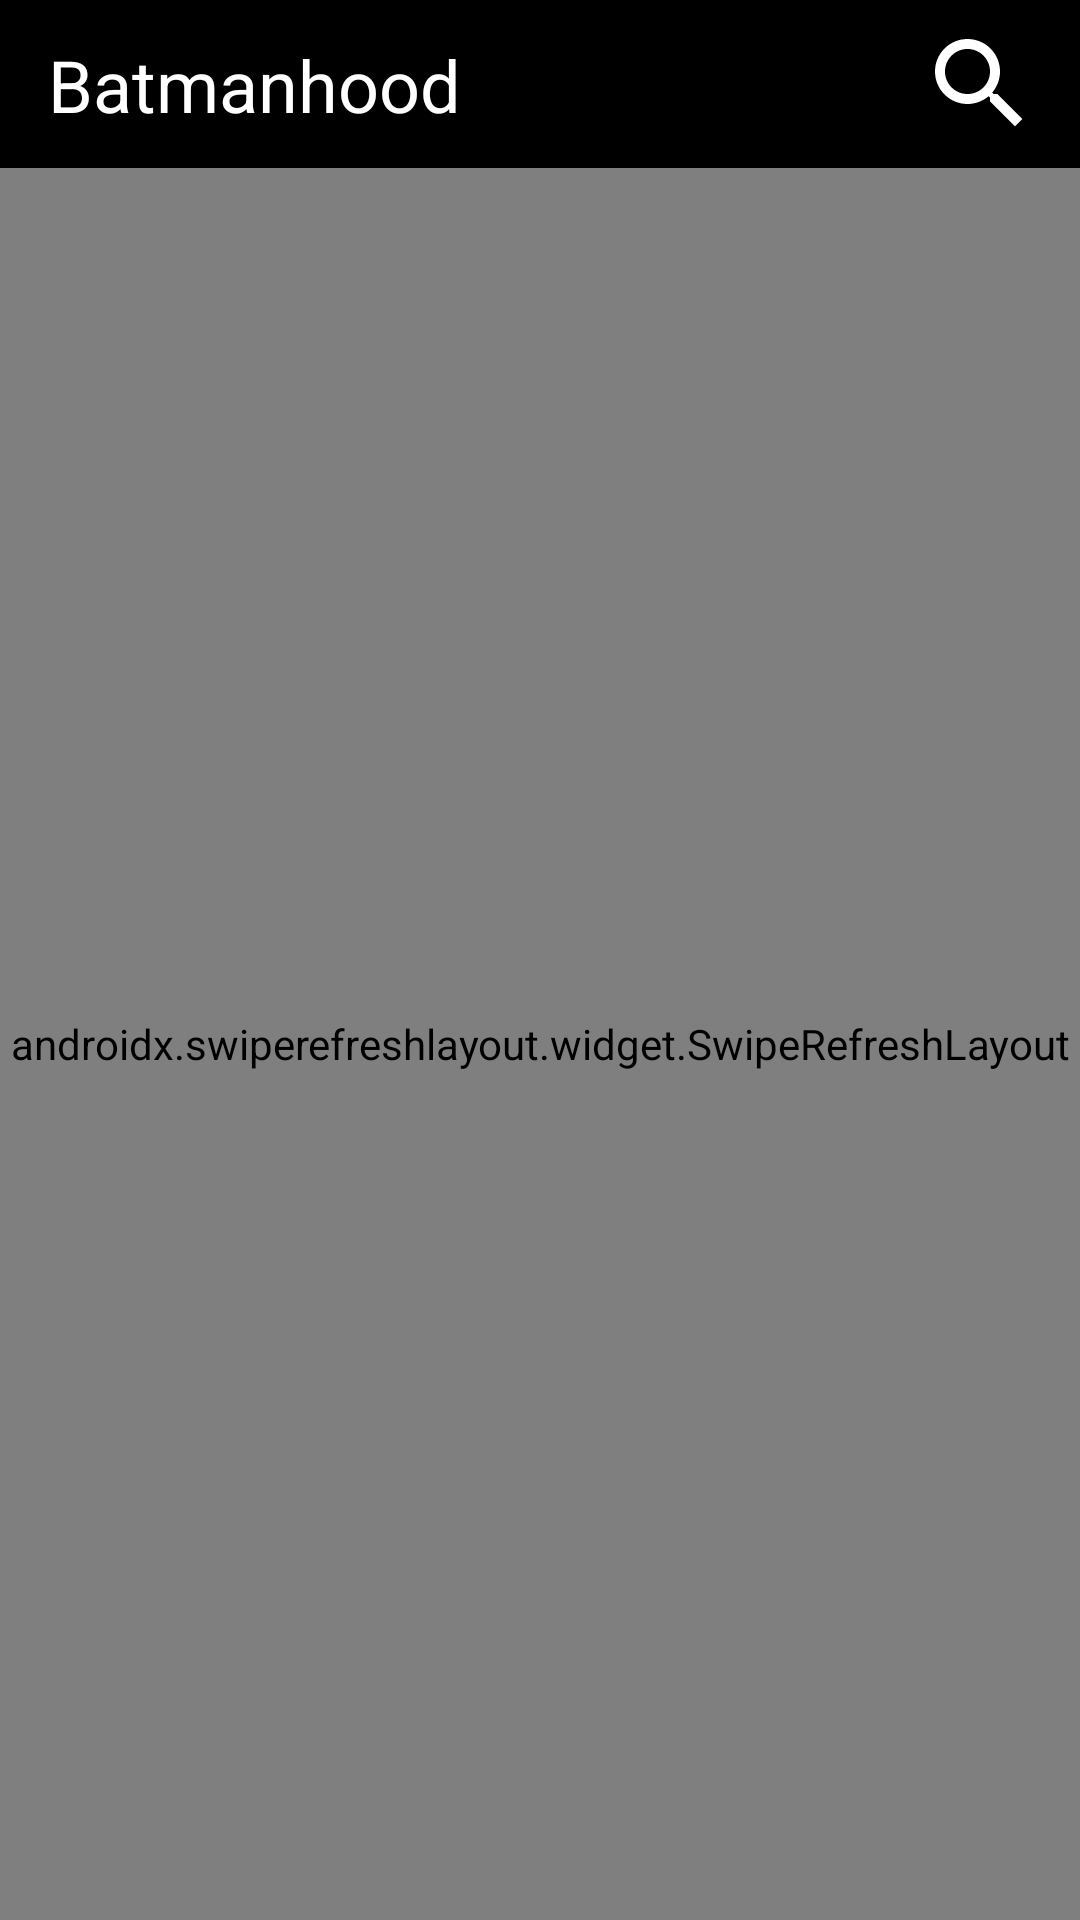

Screen size 1080 x 1920. Icon name, then its box in pixels as {"left": x1, "top": y1, "right": x2, "bottom": y2}:
search ripple bordered: {"left": 935, "top": 39, "right": 1022, "bottom": 126}
